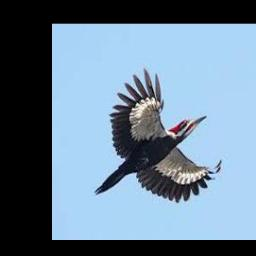Woodpecker: (94, 68, 222, 202)
